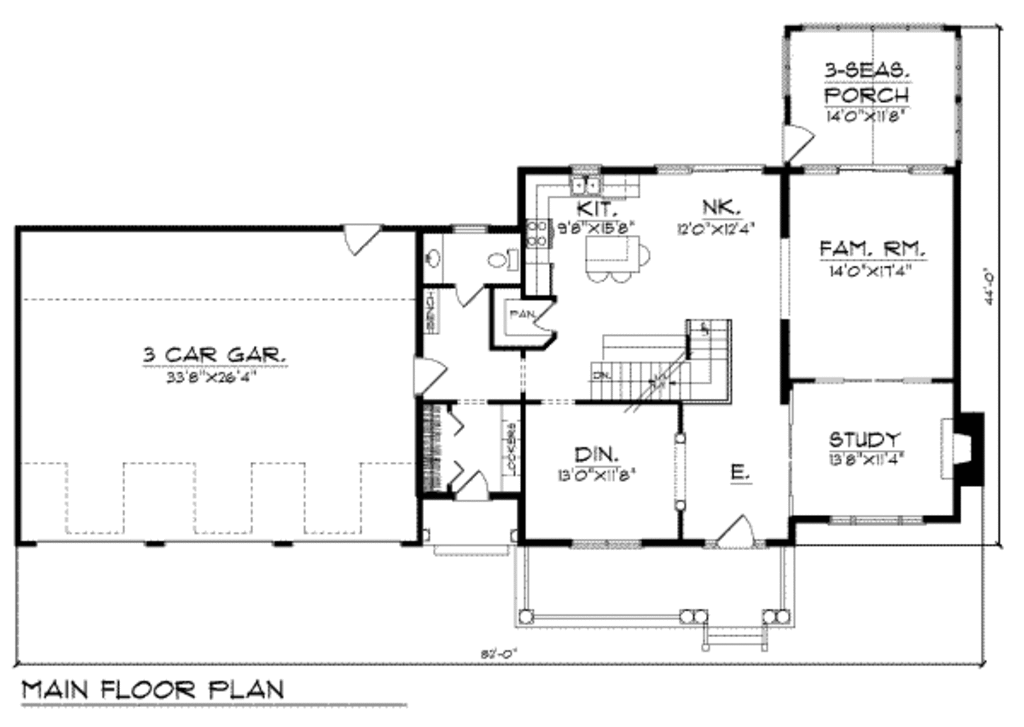door: (775, 120, 817, 164), (415, 353, 449, 407), (714, 510, 755, 550), (337, 220, 381, 256), (451, 465, 492, 503), (458, 281, 491, 305)
kitchen_bar: (577, 233, 654, 286)
large_sink: (486, 244, 521, 275)
small_sink: (421, 224, 444, 286)
stairs: (587, 311, 734, 405)
twin_sink: (568, 170, 607, 200)
windows: (797, 13, 950, 39), (949, 39, 968, 162), (823, 509, 924, 528), (561, 538, 641, 553)
